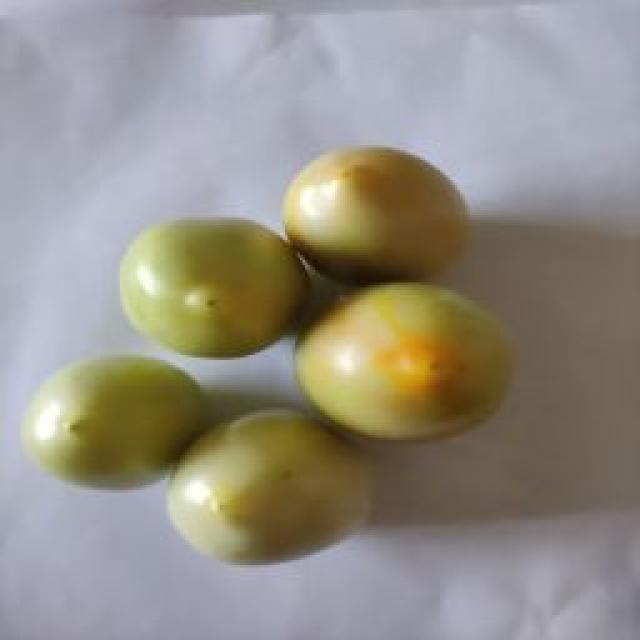tomato: (297, 276, 514, 440), (169, 403, 372, 561), (114, 209, 313, 358), (25, 352, 213, 489), (280, 144, 468, 275)
